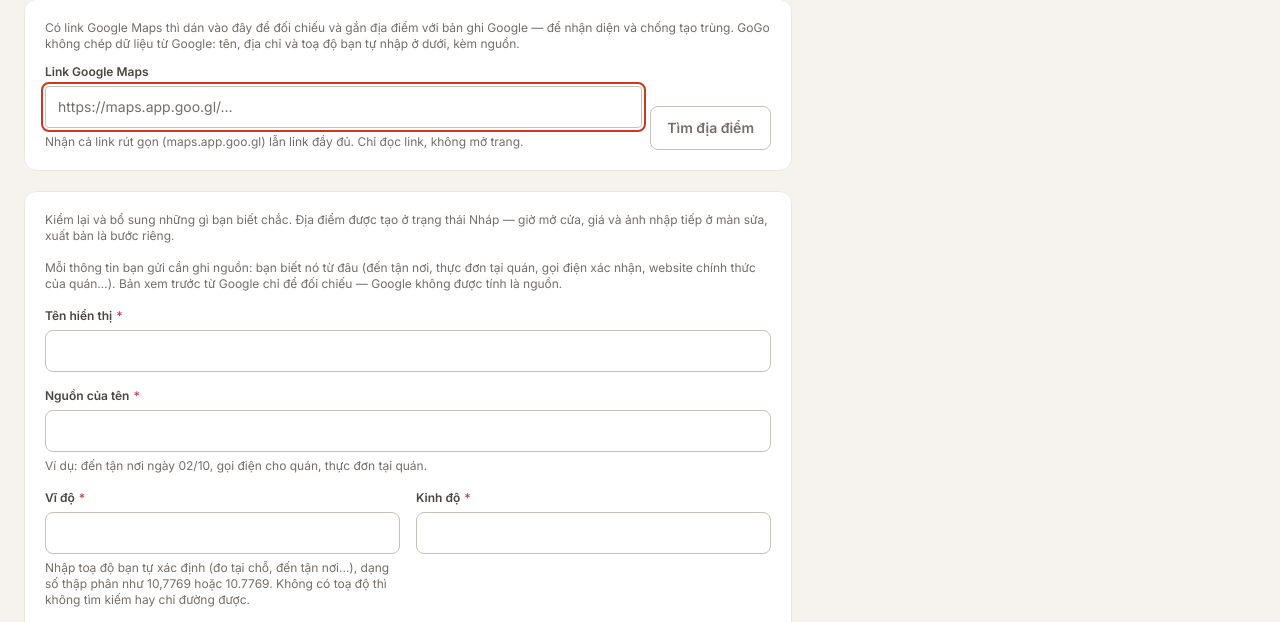
it: create a place › still shows a duplicate the server sent without a candidate
This screenshot has width=1280, height=622.
Type "Quán Mới" into the field labelled "Tên hiển thị*". click: (408, 351)
box: [45, 330, 771, 372]
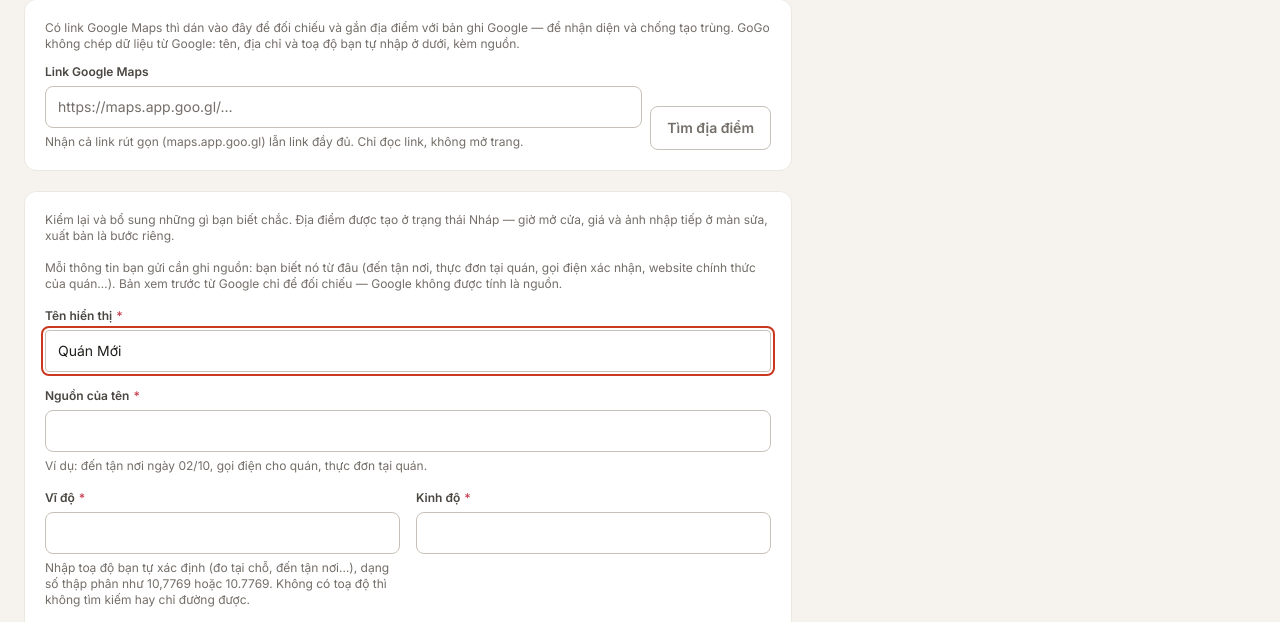
Type "10.7769" into the field labelled "Vĩ độ*". click: (222, 533)
box: [45, 512, 400, 554]
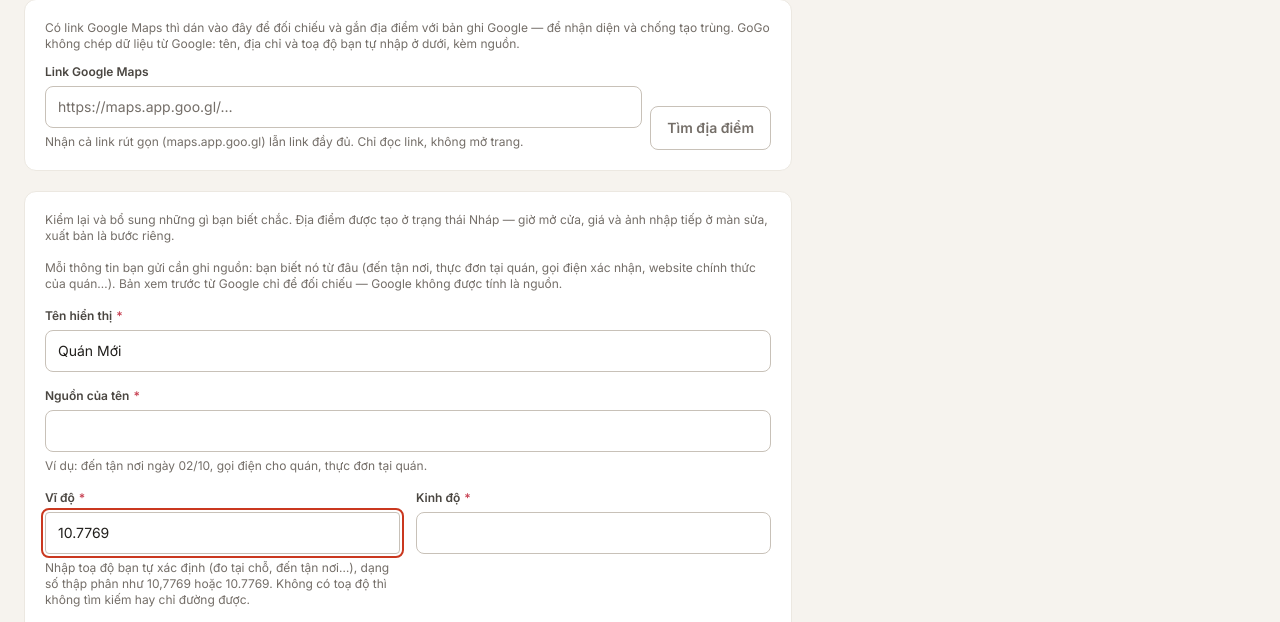
Type "106.7009" into the field labelled "Kinh độ*". click: (594, 533)
box: [416, 512, 771, 554]
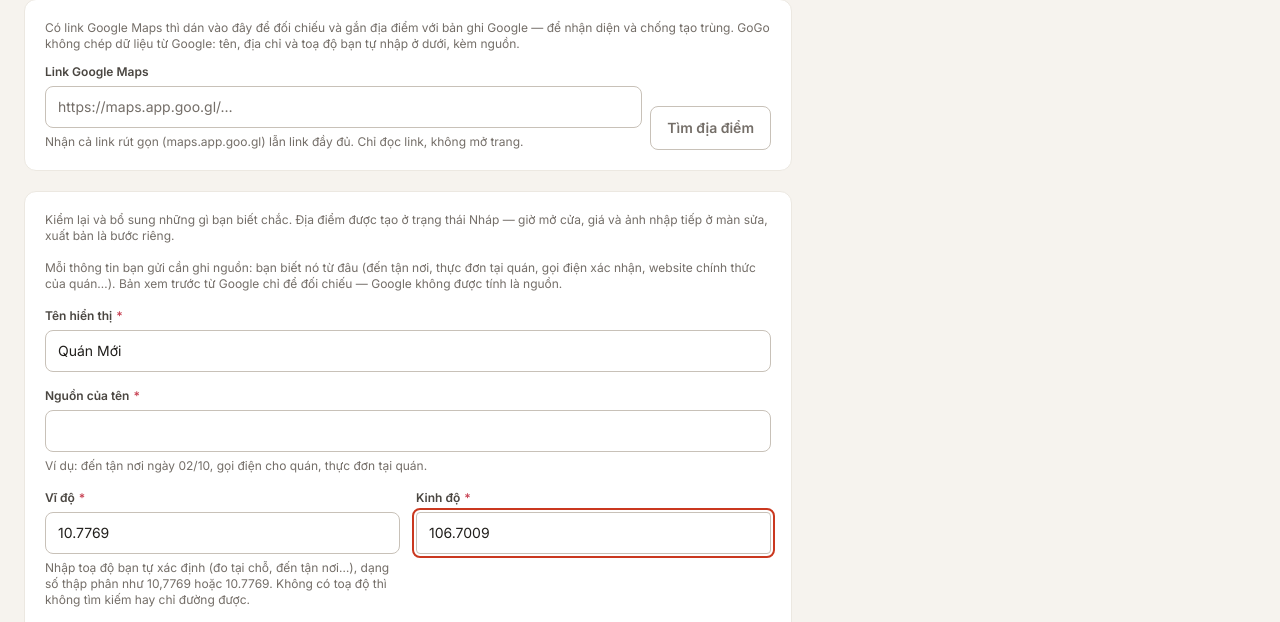
Type "Đến tận nơi 02/10/2026" into the field labelled "Nguồn của tên*". click: (408, 431)
box: [45, 410, 771, 452]
(page scrolled)
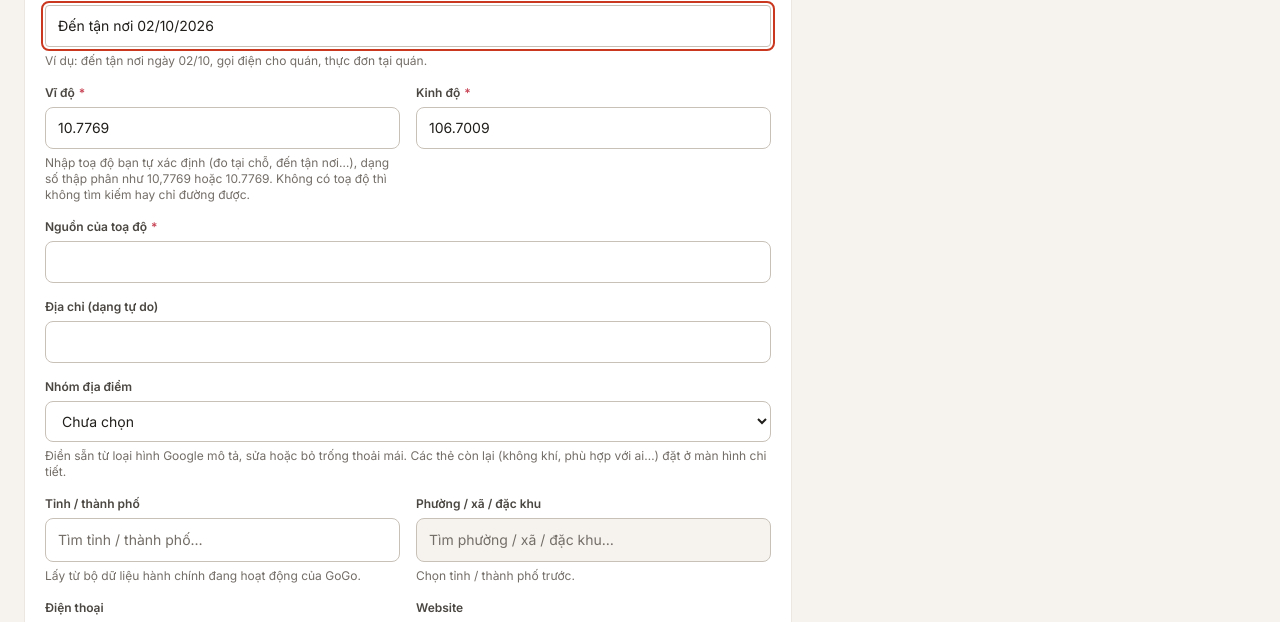
Type "Đến tận nơi 02/10/2026" into the field labelled "Nguồn của toạ độ*". click: (408, 262)
box: [45, 241, 771, 283]
(page scrolled)
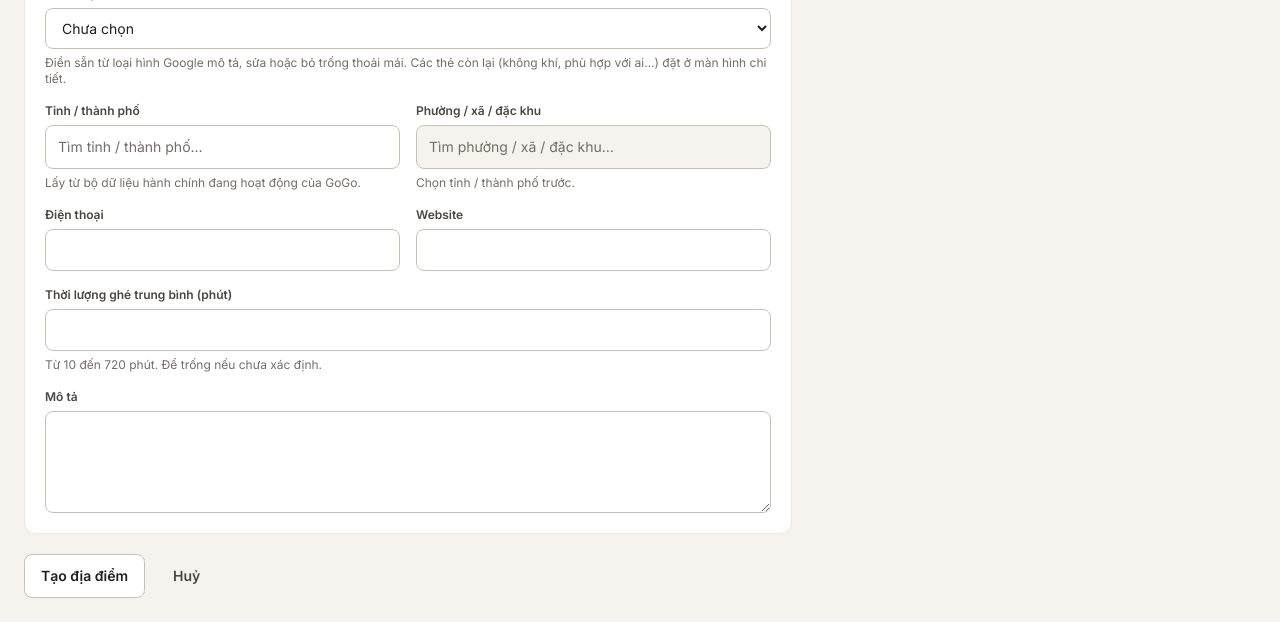
Click the button "Tạo địa điểm". click: (85, 576)
box: [24, 554, 145, 598]
(page scrolled)
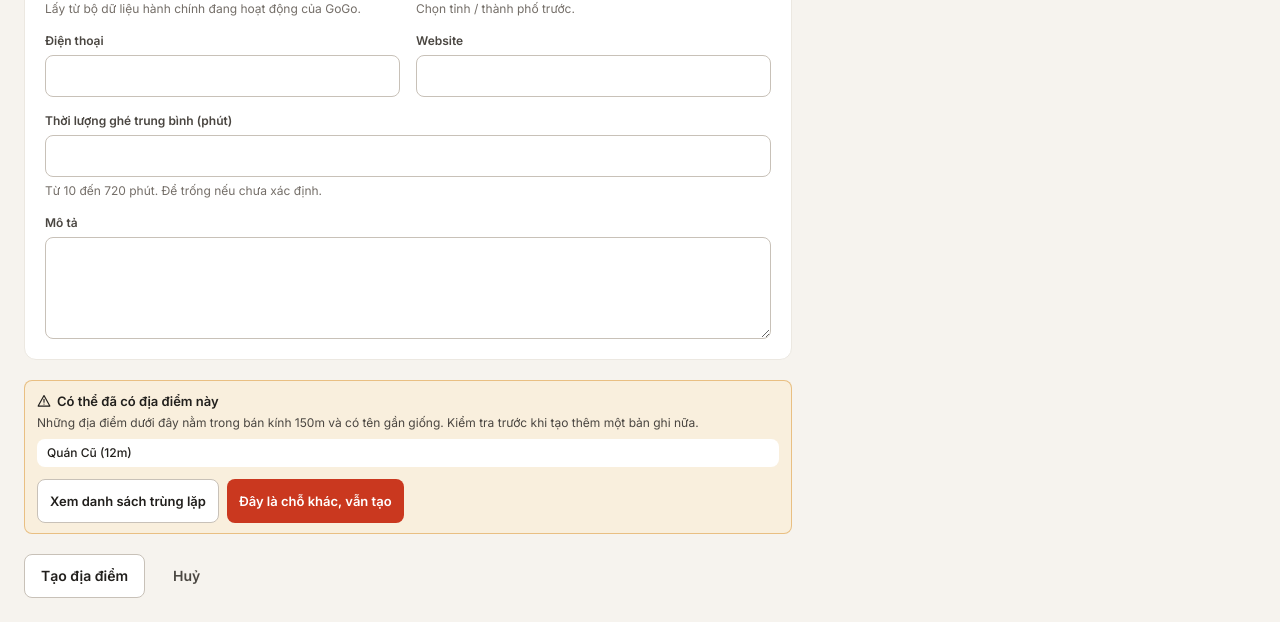
Result: the list item "Quán Cũ (12m)" is shown at [37, 439, 779, 467]
